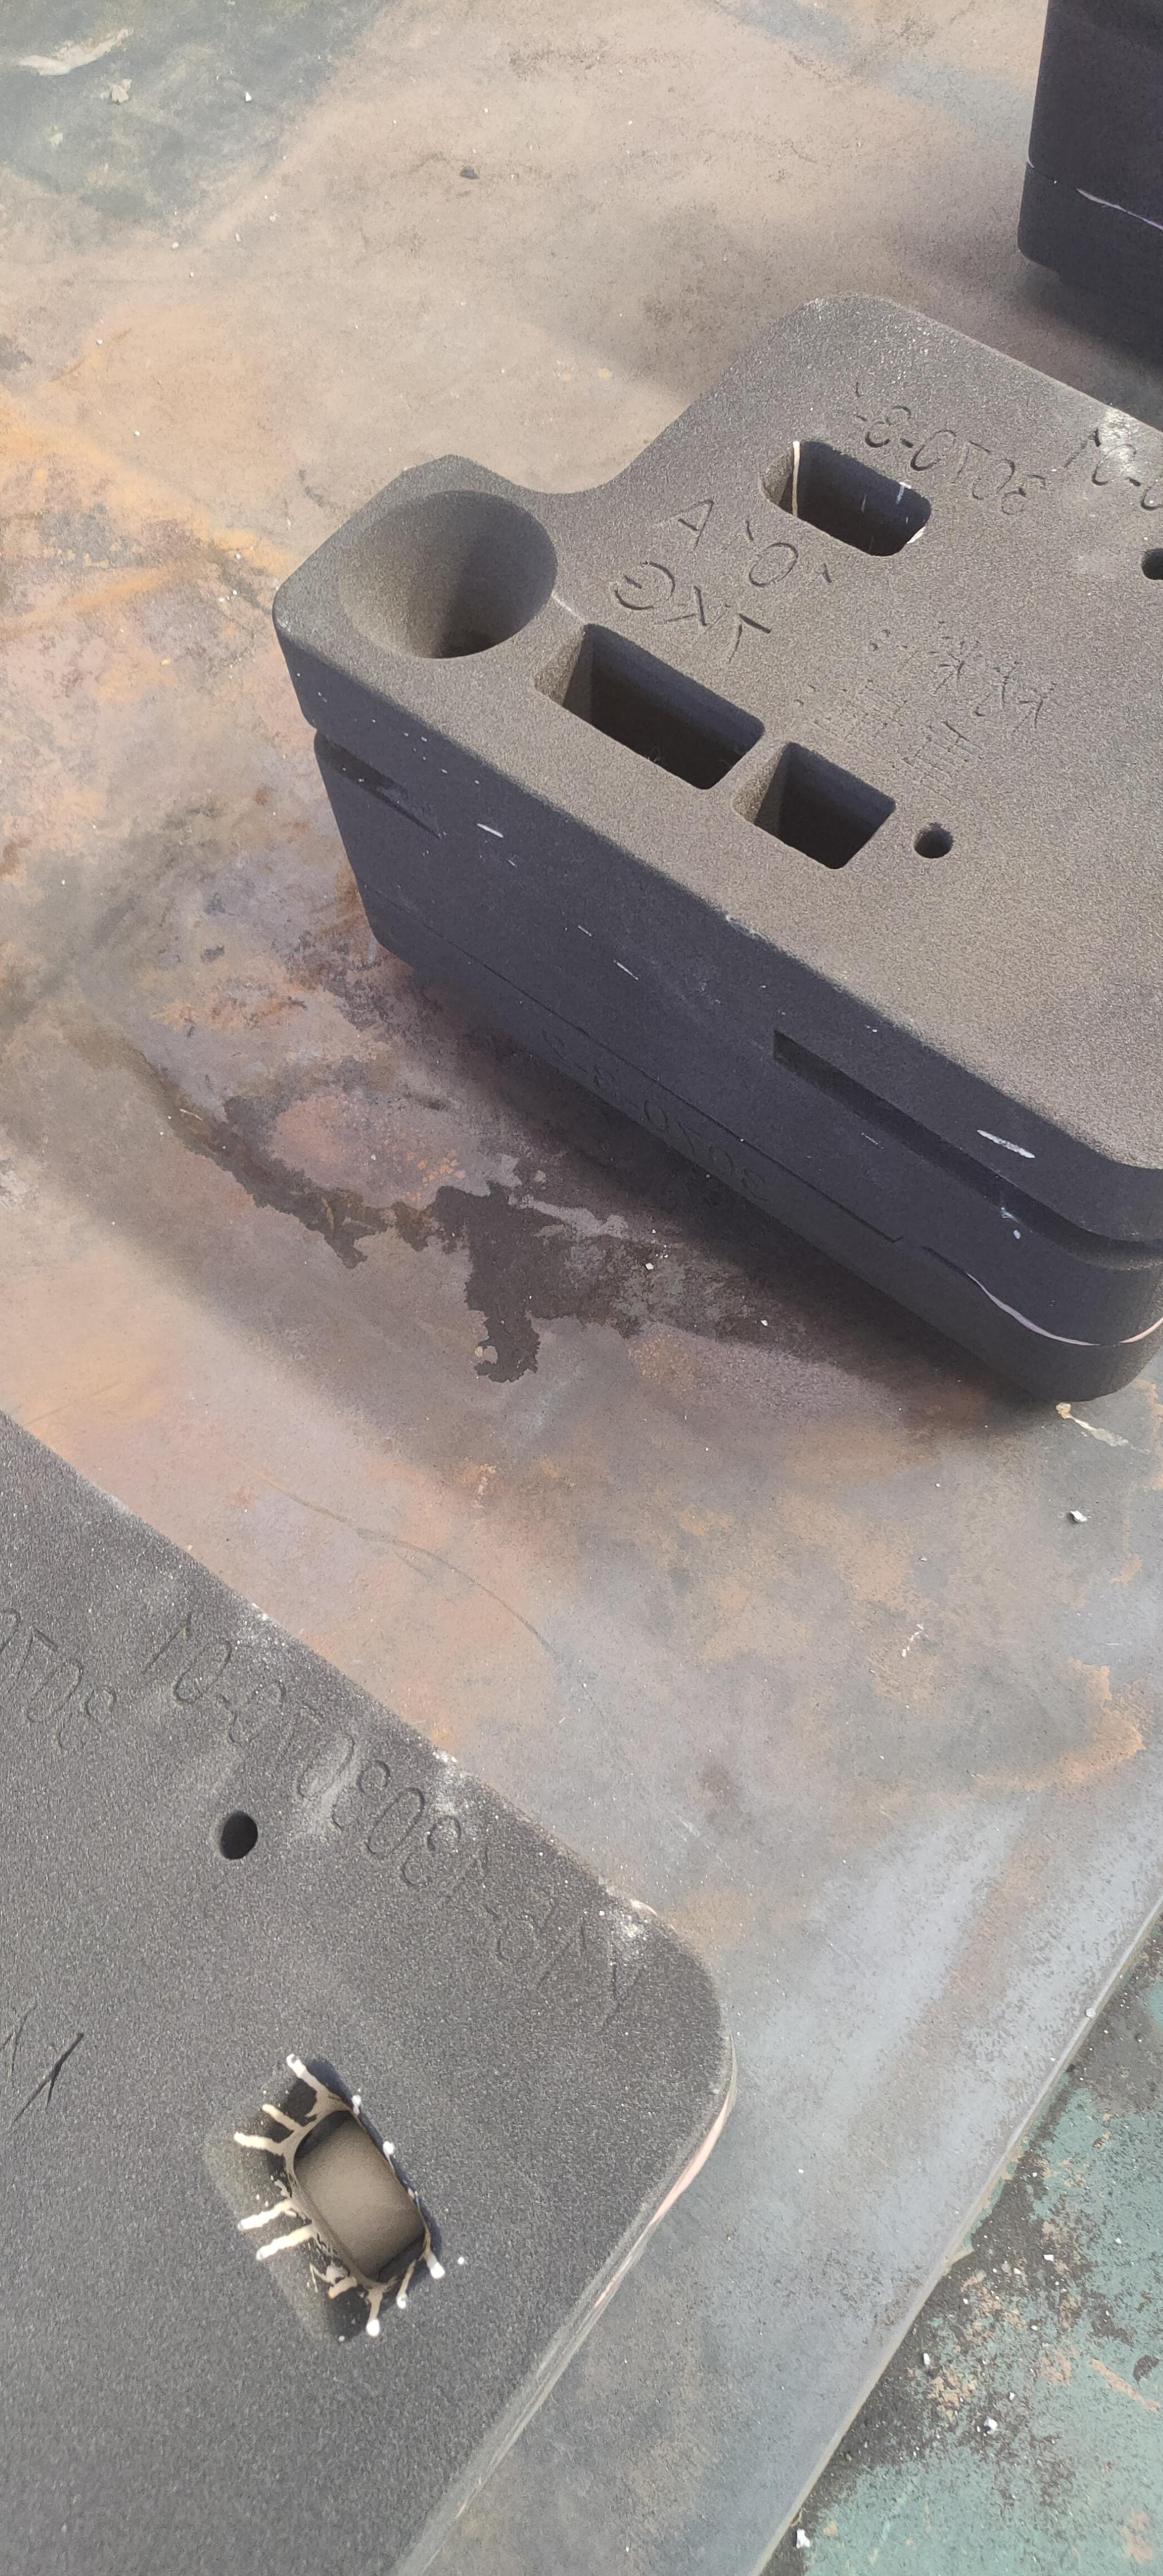pouring hole: (337, 490, 559, 660)
